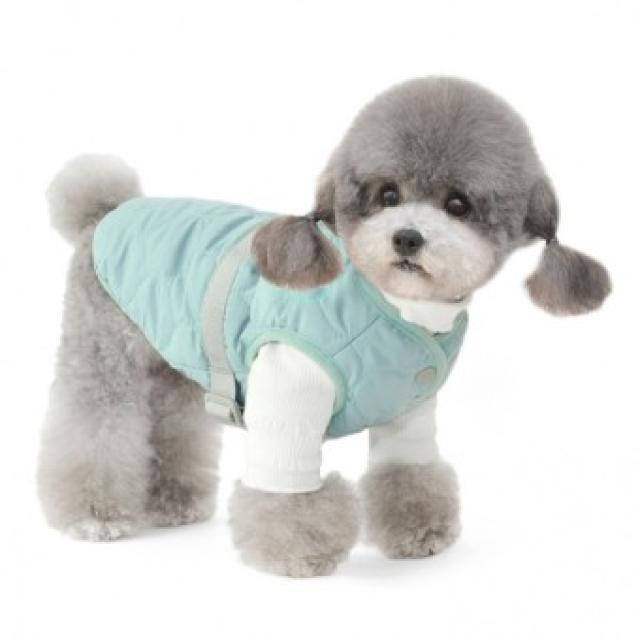cloth: (94, 199, 465, 492)
